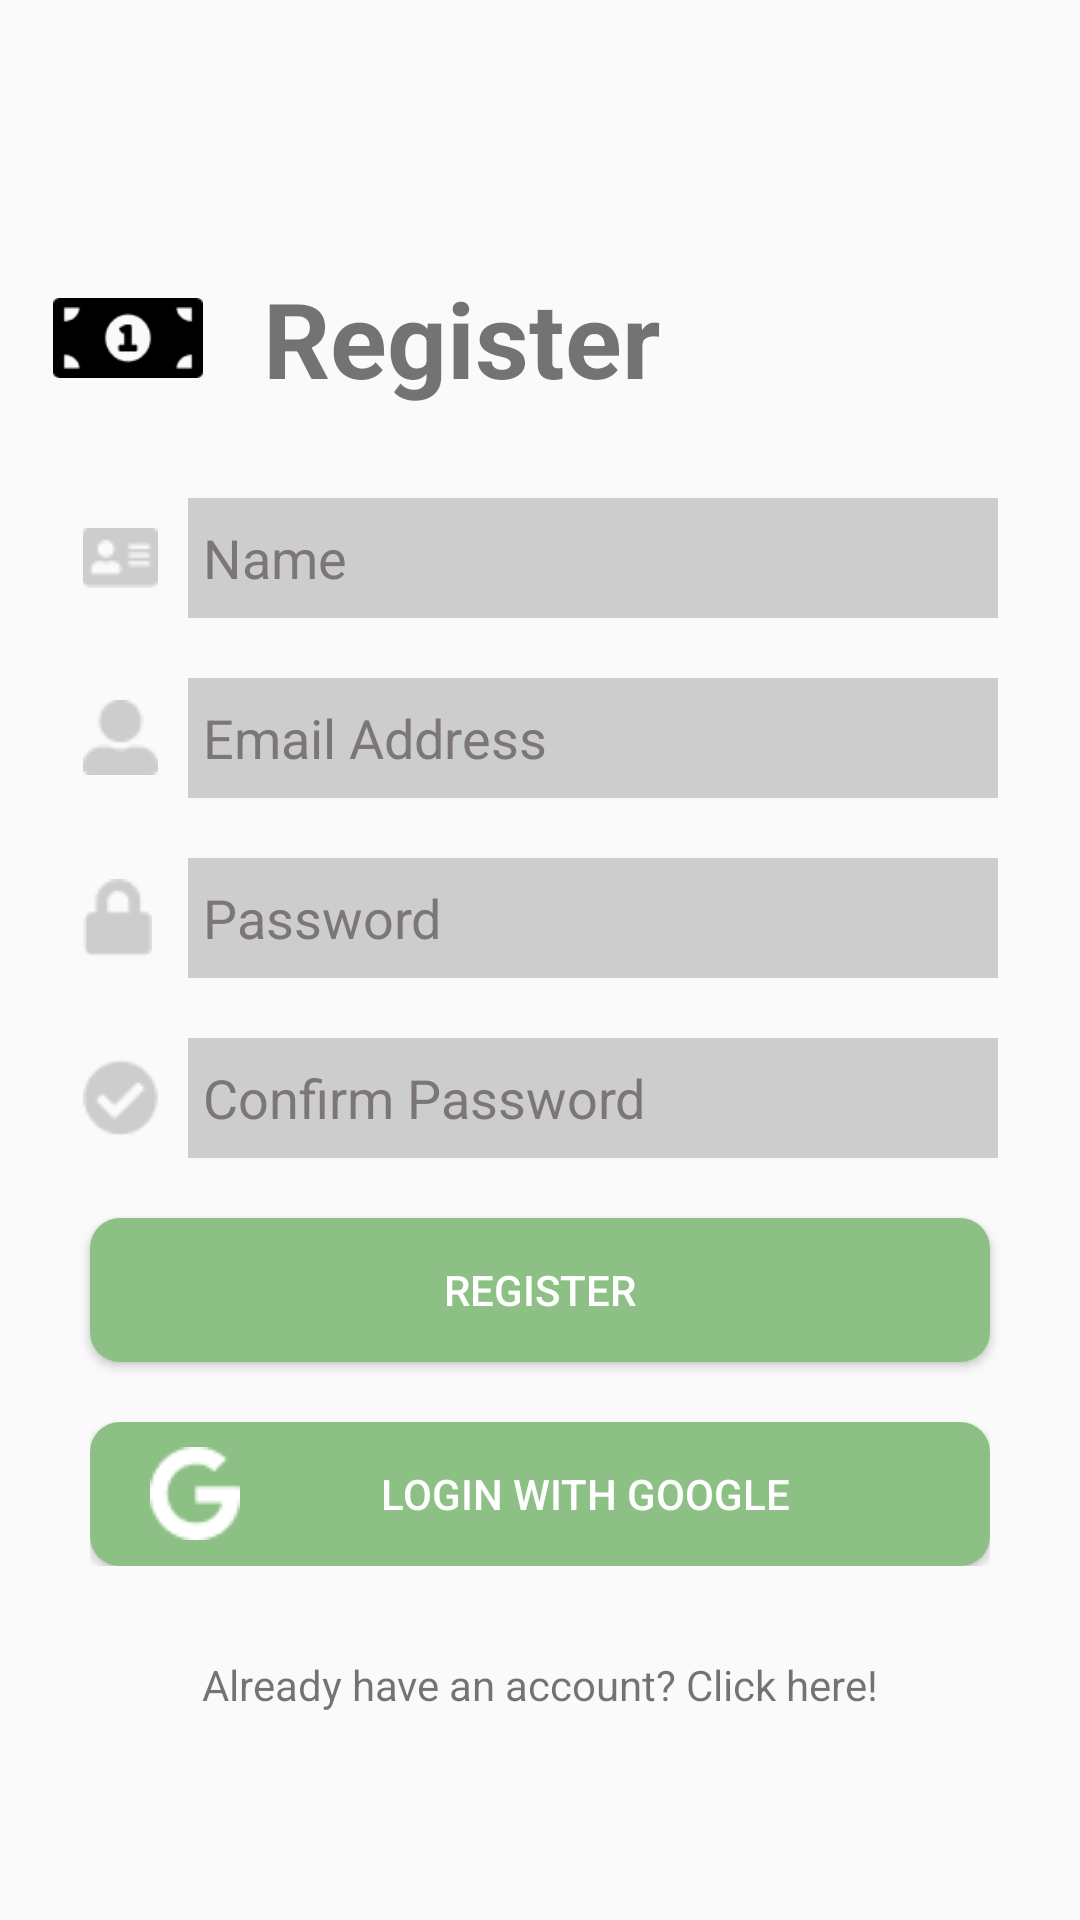

Icons on this 1080×1920 Android screen, each with its box as bbox=(x1, y1, x2, y2):
check mark: bbox=(83, 1062, 158, 1134)
money: bbox=(53, 298, 203, 378)
